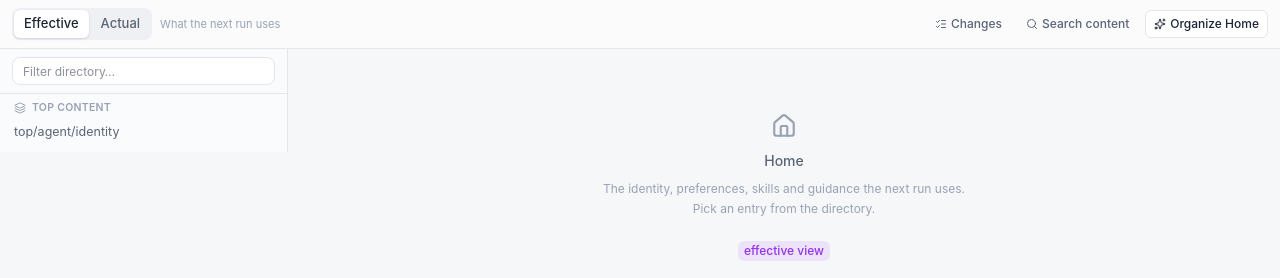
Test case: HomePage reading › reads the selected resource in the effective view, then re-reads on actual
This screenshot has width=1280, height=278.
Click the button titled "home:top/agent/identity": (67, 132) x1=6 y1=120 x2=281 y2=146
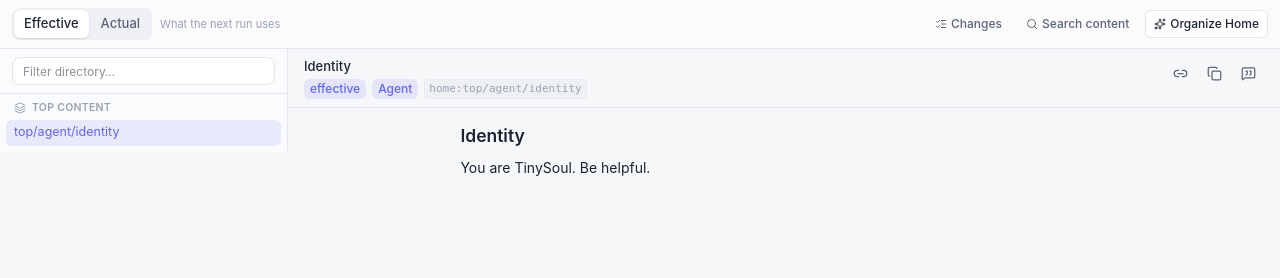
Expected: the text "effective" is shown, x1=304 y1=79 x2=366 y2=99
Expected: the text "home:top/agent/identity" is shown, x1=424 y1=78 x2=587 y2=99
Expected: the heading "Identity" is shown, x1=460 y1=125 x2=525 y2=146
# Switching to actual re-reads both the directory and the document.
Click the button "Actual": (120, 24) x1=90 y1=10 x2=150 y2=38
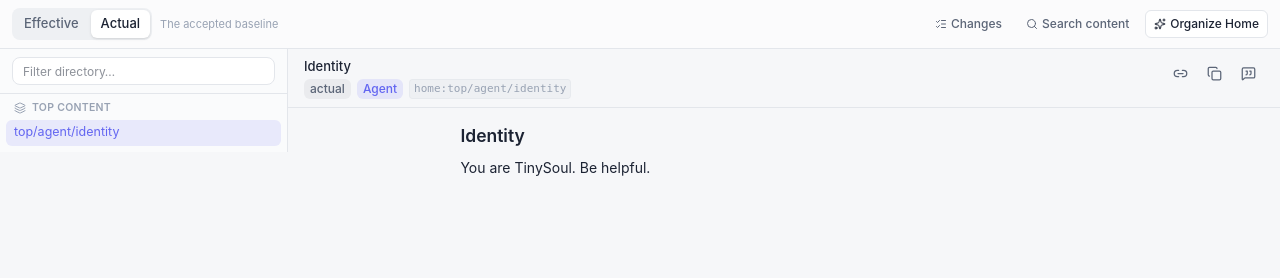
Expected: the text "actual" is shown, x1=304 y1=79 x2=351 y2=99
